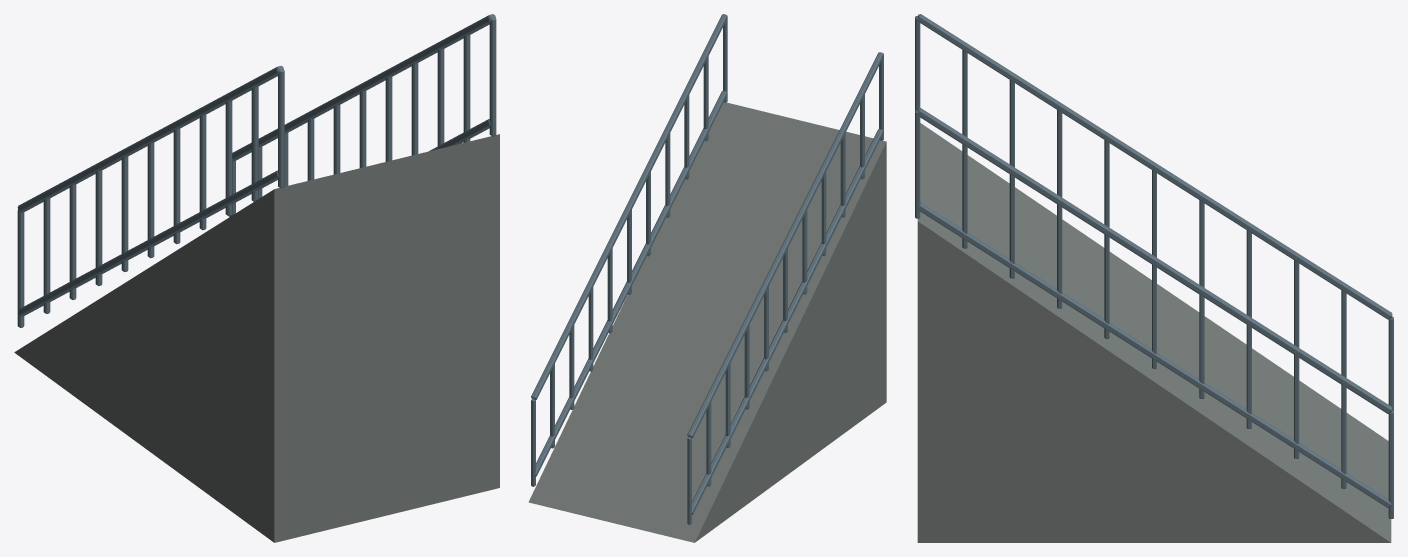
Rendered from architecture-ramp.lod0.glb.
3 renders of one model, left to right at view 1: azimuth 30°, elevation 25°; view 2: azimuth 150°, elevation 25°; view 3: azimuth 270°, elevation 25°, orthographic. The views are drawn at different scales.
Visible parts, largest first — view 1: architecture-ramp__body; view 2: architecture-ramp__body; view 3: architecture-ramp__body.
Part boxes in pixels (left/top/right/bottom): architecture-ramp__body: left=14, top=14, right=499, bottom=542; architecture-ramp__body: left=528, top=14, right=886, bottom=542; architecture-ramp__body: left=915, top=14, right=1393, bottom=542.
Size of the model in its own units: 2 by 4.02 by 4.05.
